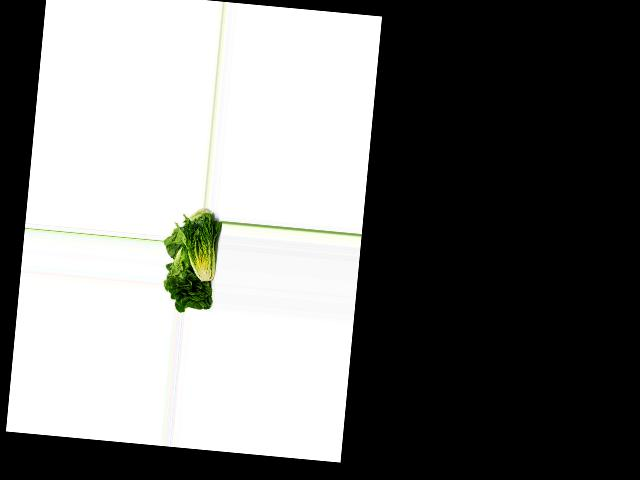lettuce: (161, 247, 220, 313)
